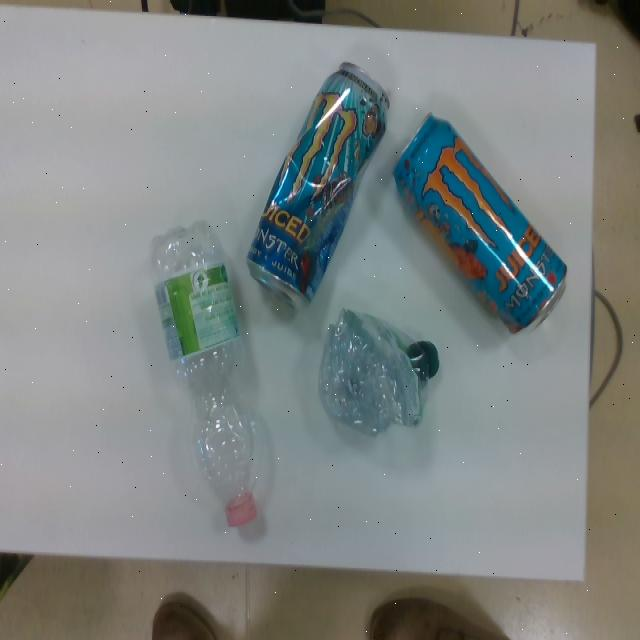aluminum: (394, 110, 569, 334), (246, 60, 392, 308)
plastic: (148, 220, 266, 534), (314, 311, 445, 443)
